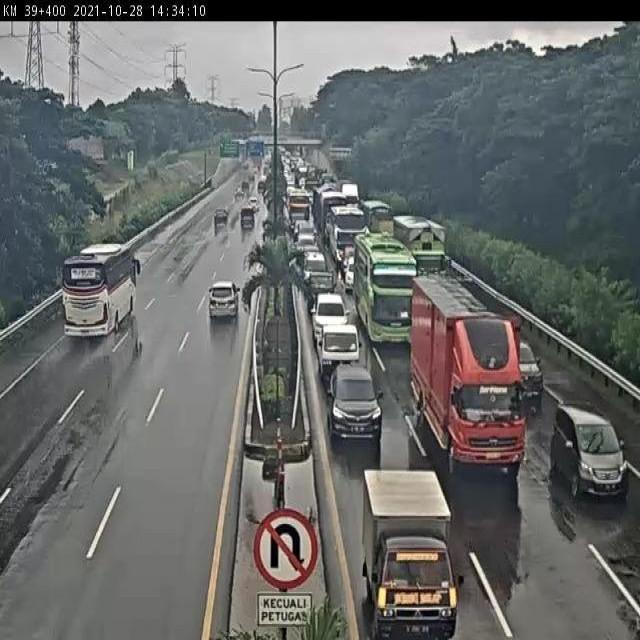bus-l-: (62, 245, 147, 338), (356, 241, 417, 347), (330, 208, 366, 265)
car: (358, 473, 461, 639), (549, 412, 628, 503), (326, 363, 383, 441), (496, 331, 542, 404), (314, 314, 357, 366), (205, 279, 240, 328), (309, 292, 348, 331), (303, 269, 336, 304), (303, 250, 328, 270), (342, 252, 357, 285), (297, 234, 317, 258), (293, 218, 316, 238)
truck-l-: (409, 275, 524, 464), (392, 216, 453, 292)
